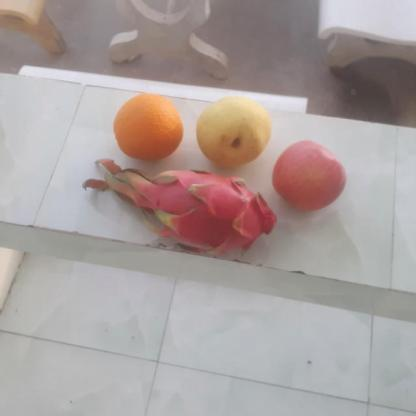orange: (109, 91, 184, 160)
pear: (193, 96, 276, 169)
pitaya: (146, 169, 284, 259)
